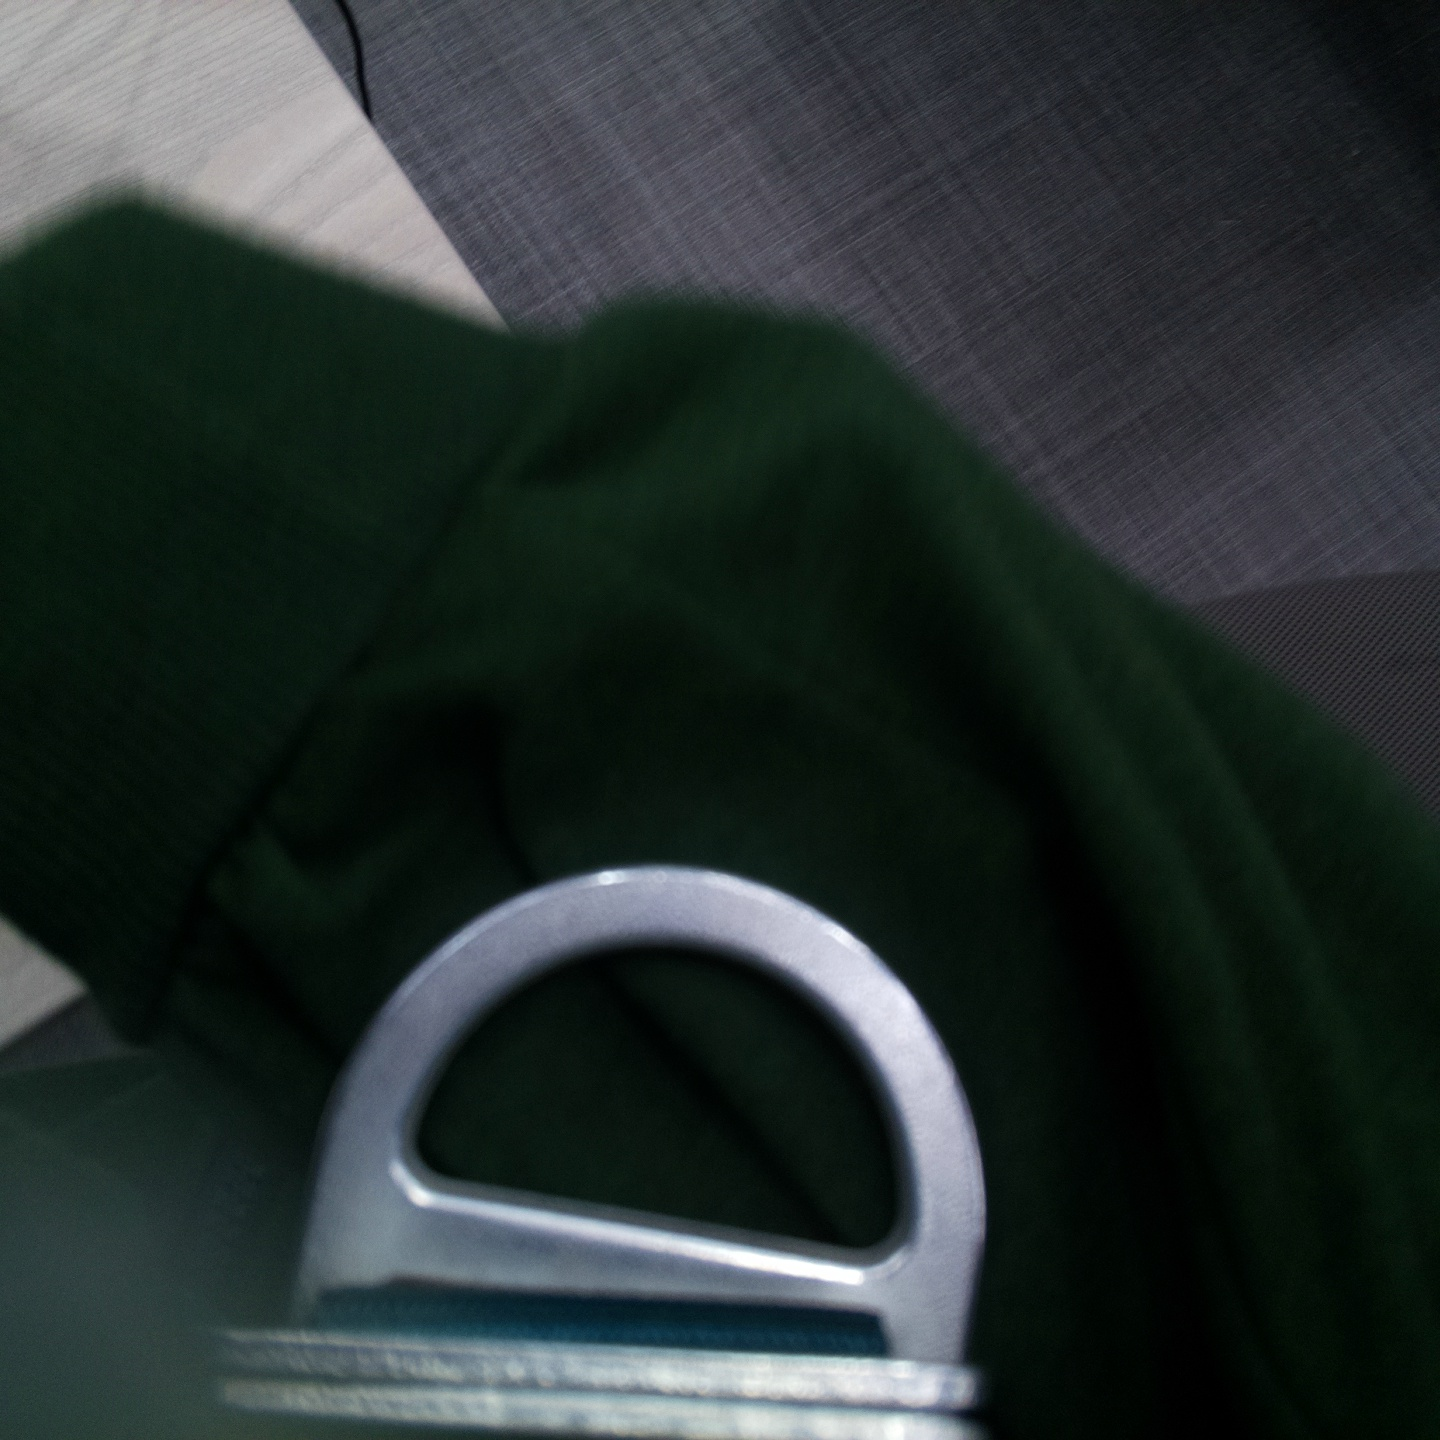UNSUCCESS: (310, 866, 986, 1346)
